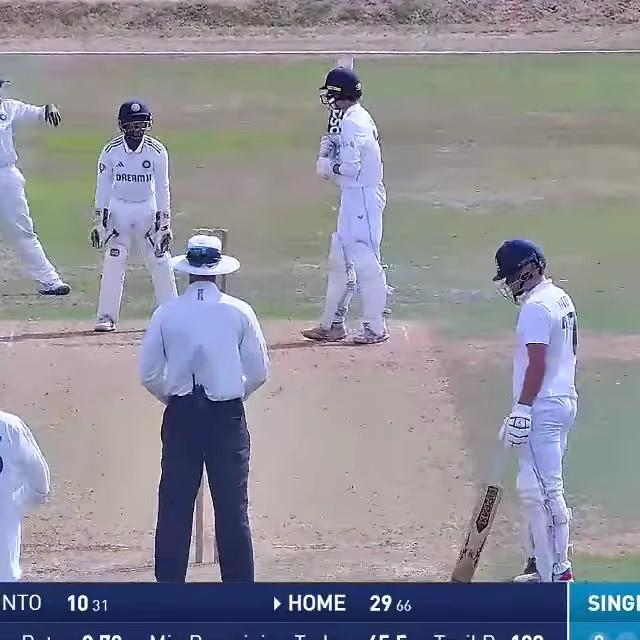umpire: (122, 218, 284, 586)
